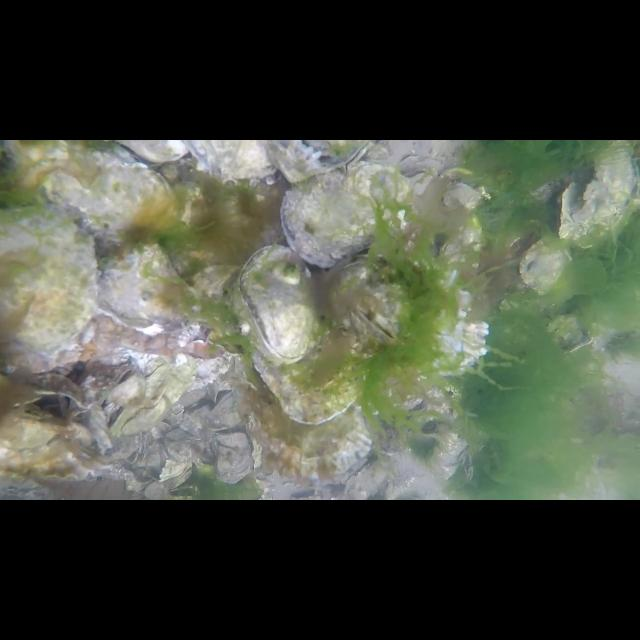Oyster-Closed: (0, 209, 96, 359), (281, 158, 411, 268), (45, 146, 177, 234), (237, 246, 321, 364), (98, 246, 190, 336), (264, 140, 372, 182), (519, 242, 571, 294), (441, 222, 479, 258)
Oyster-Indeterminate: (326, 260, 490, 380), (240, 362, 372, 484), (254, 329, 370, 425), (558, 140, 640, 248), (109, 362, 195, 433), (0, 437, 114, 481), (183, 140, 275, 180), (0, 403, 78, 449), (342, 456, 390, 500), (214, 432, 252, 483), (438, 166, 479, 210), (204, 391, 246, 431), (372, 412, 408, 458)
Oyster-Open: (16, 370, 92, 422), (402, 166, 434, 198), (421, 420, 441, 432)
